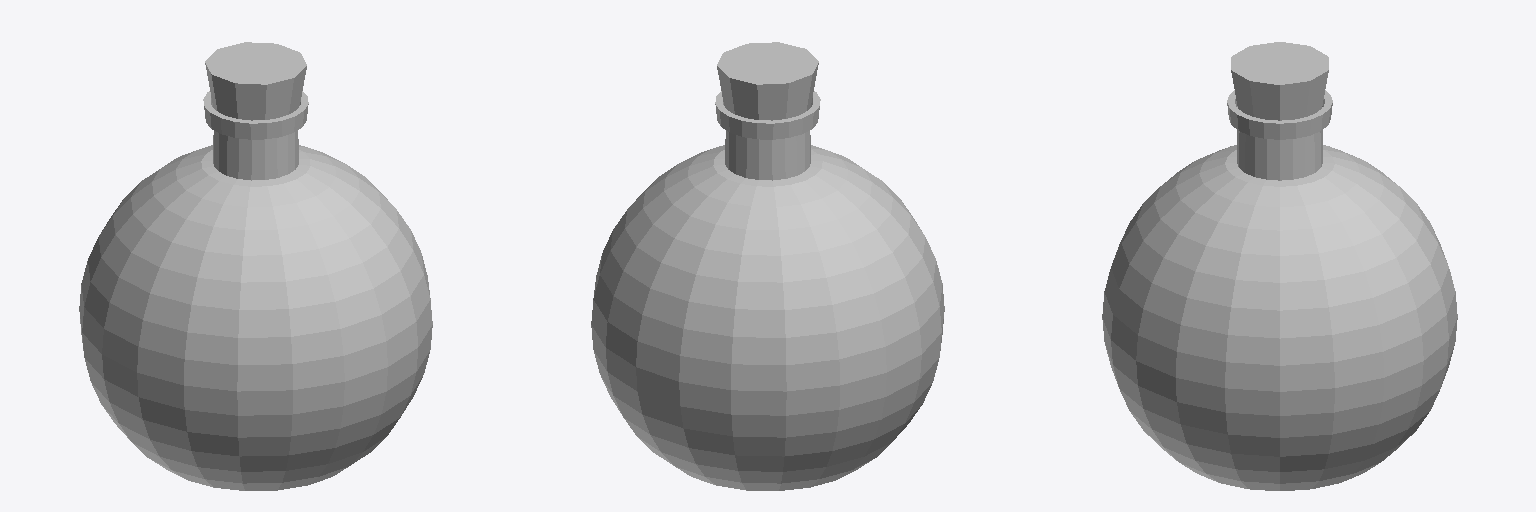
File: potion.obj
The picture shows the model from 3 angles: view 1: azimuth 30°, elevation 25°; view 2: azimuth 150°, elevation 25°; view 3: azimuth 270°, elevation 25°; orthographic projection.
Visible parts, largest first — view 1: pSphere2; view 2: pSphere2; view 3: pSphere2.
Part boxes in pixels (x1,y1,x2,y2): pSphere2: (79,42,432,490); pSphere2: (591,42,944,490); pSphere2: (1102,42,1457,490).
Size of the model in its own units: 8.8 by 10.52 by 8.8.